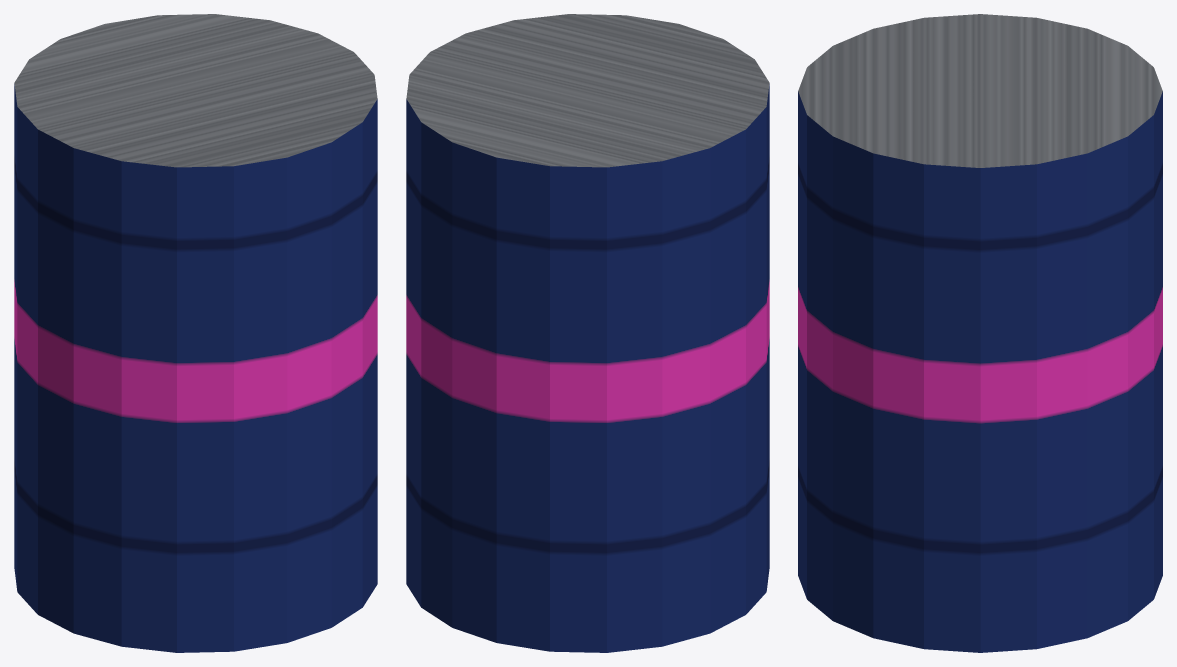
File: drum.obj
The picture shows the model from 3 angles, left to right: view 1: azimuth 30°, elevation 25°; view 2: azimuth 150°, elevation 25°; view 3: azimuth 270°, elevation 25°; orthographic projection.
Bounding box in the file's own units: 0.6 × 0.88 × 0.6.
Materials: 2 (2 with a texture image).
